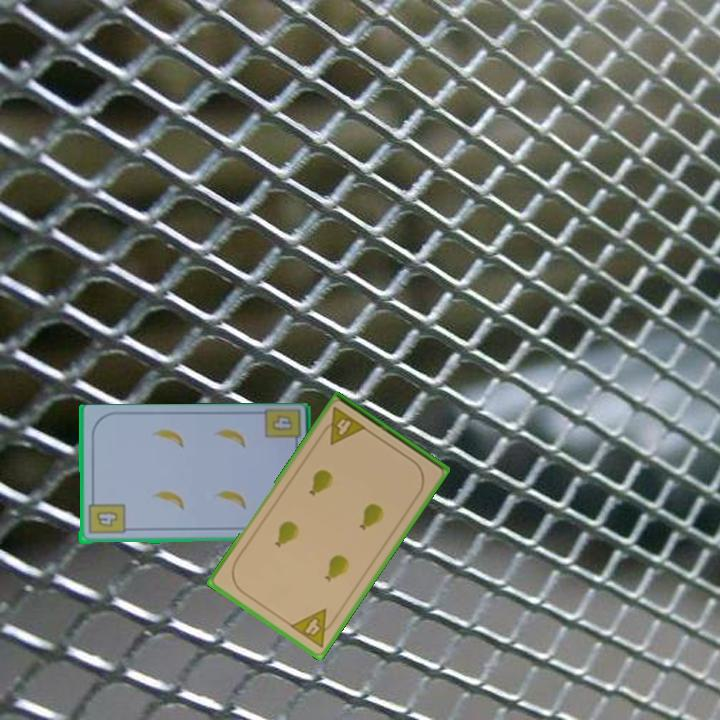4b: (261, 408, 303, 452), (85, 495, 127, 537)
4p: (286, 605, 340, 650), (317, 404, 369, 448)
